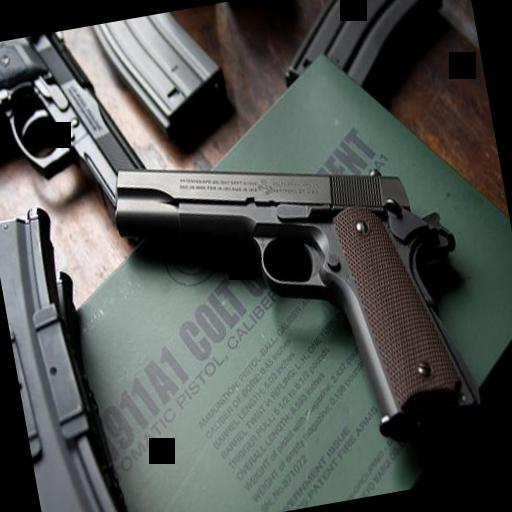Handgun: (104, 108, 486, 480), (0, 21, 163, 253)
